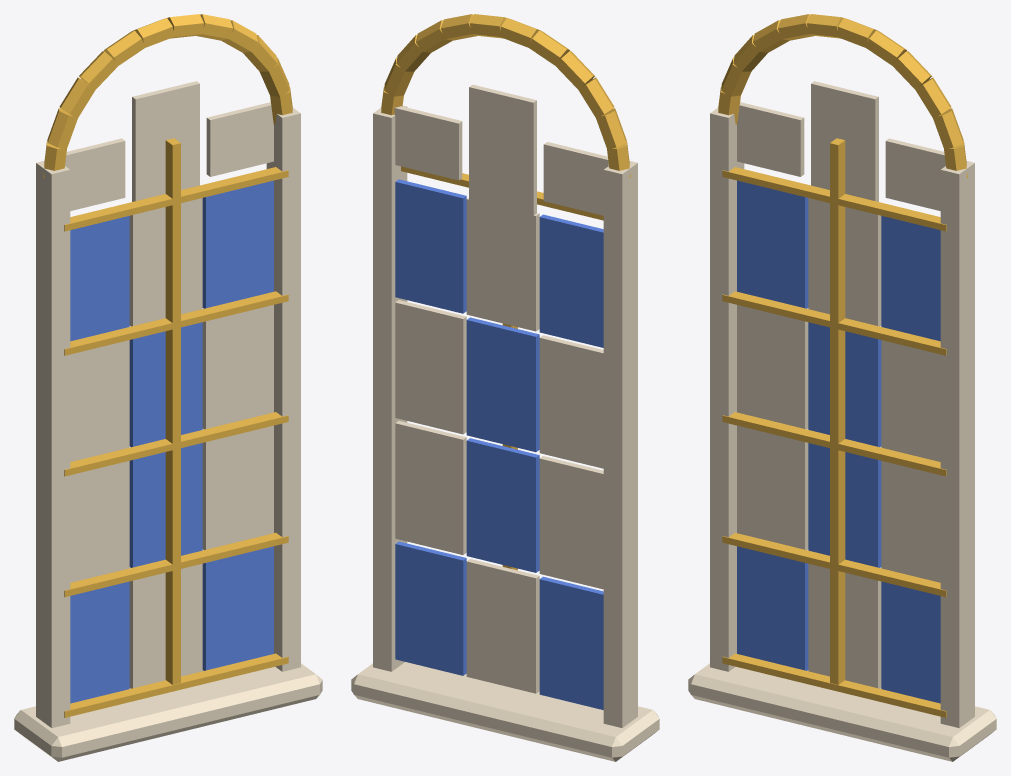
3 views of the same model, side by side, from view 1: azimuth 30°, elevation 25°; view 2: azimuth 150°, elevation 25°; view 3: azimuth 330°, elevation 25° (orthographic).
Visible parts, largest first — view 1: Arched window side, Arched window side.001, Panel base, Window mullion, Colored glass tile.011, Colored glass tile.008, Colored glass tile.009, Colored glass tile.010, Arch infill.001, Colored glass tile.003, Colored glass tile.002, Colored glass tile (+23 smaller); view 2: Arched window side, Panel base, Arched window side.001, Arch infill.001, Colored glass tile.004, Colored glass tile.005, Colored glass tile.006, Colored glass tile.011, Colored glass tile.008, Colored glass tile.010, Colored glass tile.009, Colored glass tile.001 (+18 smaller); view 3: Arched window side.001, Arched window side, Panel base, Window mullion, Colored glass tile.003, Colored glass tile, Colored glass tile.001, Colored glass tile.002, Arch infill.001, Colored glass tile.011, Colored glass tile.010, Colored glass tile.008 (+23 smaller).
Boxes of the visible parts, bbox=[...] form: Arched window side: bbox=[36, 160, 70, 727]; Arched window side.001: bbox=[266, 107, 300, 671]; Panel base: bbox=[14, 663, 322, 761]; Window mullion: bbox=[165, 138, 180, 684]; Colored glass tile.011: bbox=[202, 180, 273, 308]; Colored glass tile.008: bbox=[202, 546, 273, 670]; Colored glass tile.009: bbox=[202, 425, 273, 549]; Colored glass tile.010: bbox=[202, 305, 273, 429]; Arch infill.001: bbox=[132, 81, 199, 233]; Colored glass tile.003: bbox=[70, 216, 129, 341]; Colored glass tile.002: bbox=[70, 340, 129, 461]; Colored glass tile: bbox=[70, 581, 129, 703]; Arched window side: bbox=[603, 160, 637, 727]; Panel base: bbox=[351, 662, 659, 761]; Arched window side.001: bbox=[373, 105, 407, 671]; Arch infill.001: bbox=[469, 84, 536, 237]; Colored glass tile.004: bbox=[466, 559, 539, 693]; Colored glass tile.005: bbox=[466, 438, 539, 572]; Colored glass tile.006: bbox=[466, 317, 539, 452]; Colored glass tile.011: bbox=[395, 179, 466, 313]; Colored glass tile.008: bbox=[395, 541, 466, 675]; Colored glass tile.010: bbox=[395, 300, 466, 434]; Colored glass tile.009: bbox=[395, 421, 466, 554]; Colored glass tile.001: bbox=[539, 456, 603, 589]; Arched window side.001: bbox=[940, 160, 974, 727]; Arched window side: bbox=[710, 107, 744, 671]; Panel base: bbox=[688, 663, 996, 761]; Window mullion: bbox=[830, 138, 845, 684]; Colored glass tile.003: bbox=[737, 180, 808, 308]; Colored glass tile: bbox=[737, 546, 808, 670]; Colored glass tile.001: bbox=[737, 425, 808, 549]; Colored glass tile.002: bbox=[737, 305, 808, 429]; Arch infill.001: bbox=[811, 81, 878, 233]; Colored glass tile.011: bbox=[881, 216, 940, 341]; Colored glass tile.010: bbox=[881, 340, 940, 461]; Colored glass tile.008: bbox=[881, 581, 940, 703].
Size of the model in its own units: 0.8 by 1.97 by 0.23.
1 material, 1 textured.
